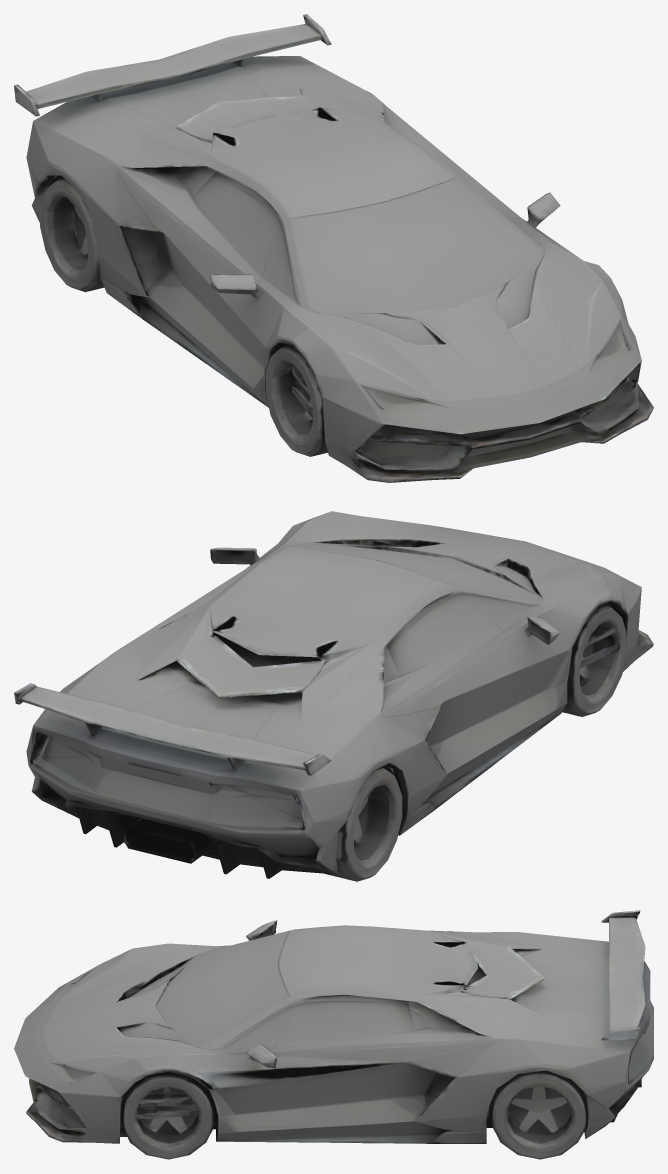
Rendered from base_basic_shaded.glb.
3 views of the same model, one above another, from view 1: azimuth 30°, elevation 25°; view 2: azimuth 150°, elevation 25°; view 3: azimuth 270°, elevation 25° (orthographic). The views are drawn at different scales.
Visible parts, largest first — view 1: model; view 2: model; view 3: model.
Boxes of the visible parts, x1,y1,x2,y2 form: model: (14, 14, 653, 482); model: (14, 511, 653, 881); model: (14, 910, 653, 1159).
Bounding box in the file's own units: 0.9704 × 0.4704 × 1.9.
Materials: 1 (1 with a texture image).
